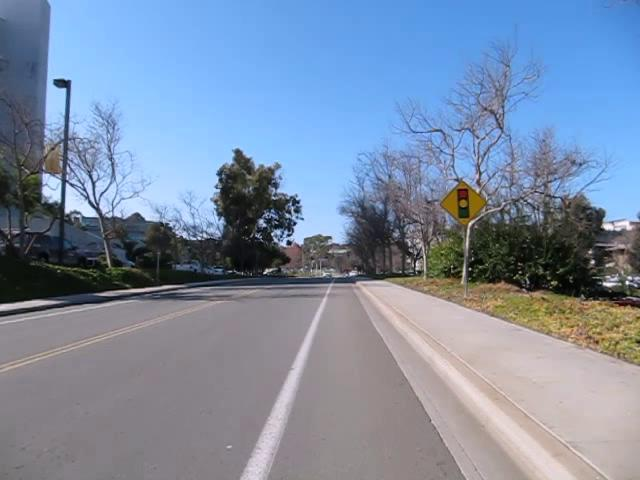signalAhead: (438, 178, 488, 226)
